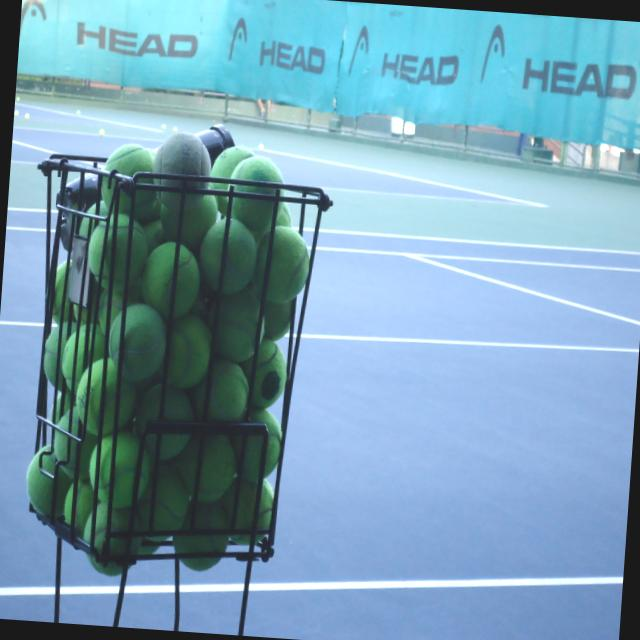Tennis Ball: (16, 124, 321, 591)
